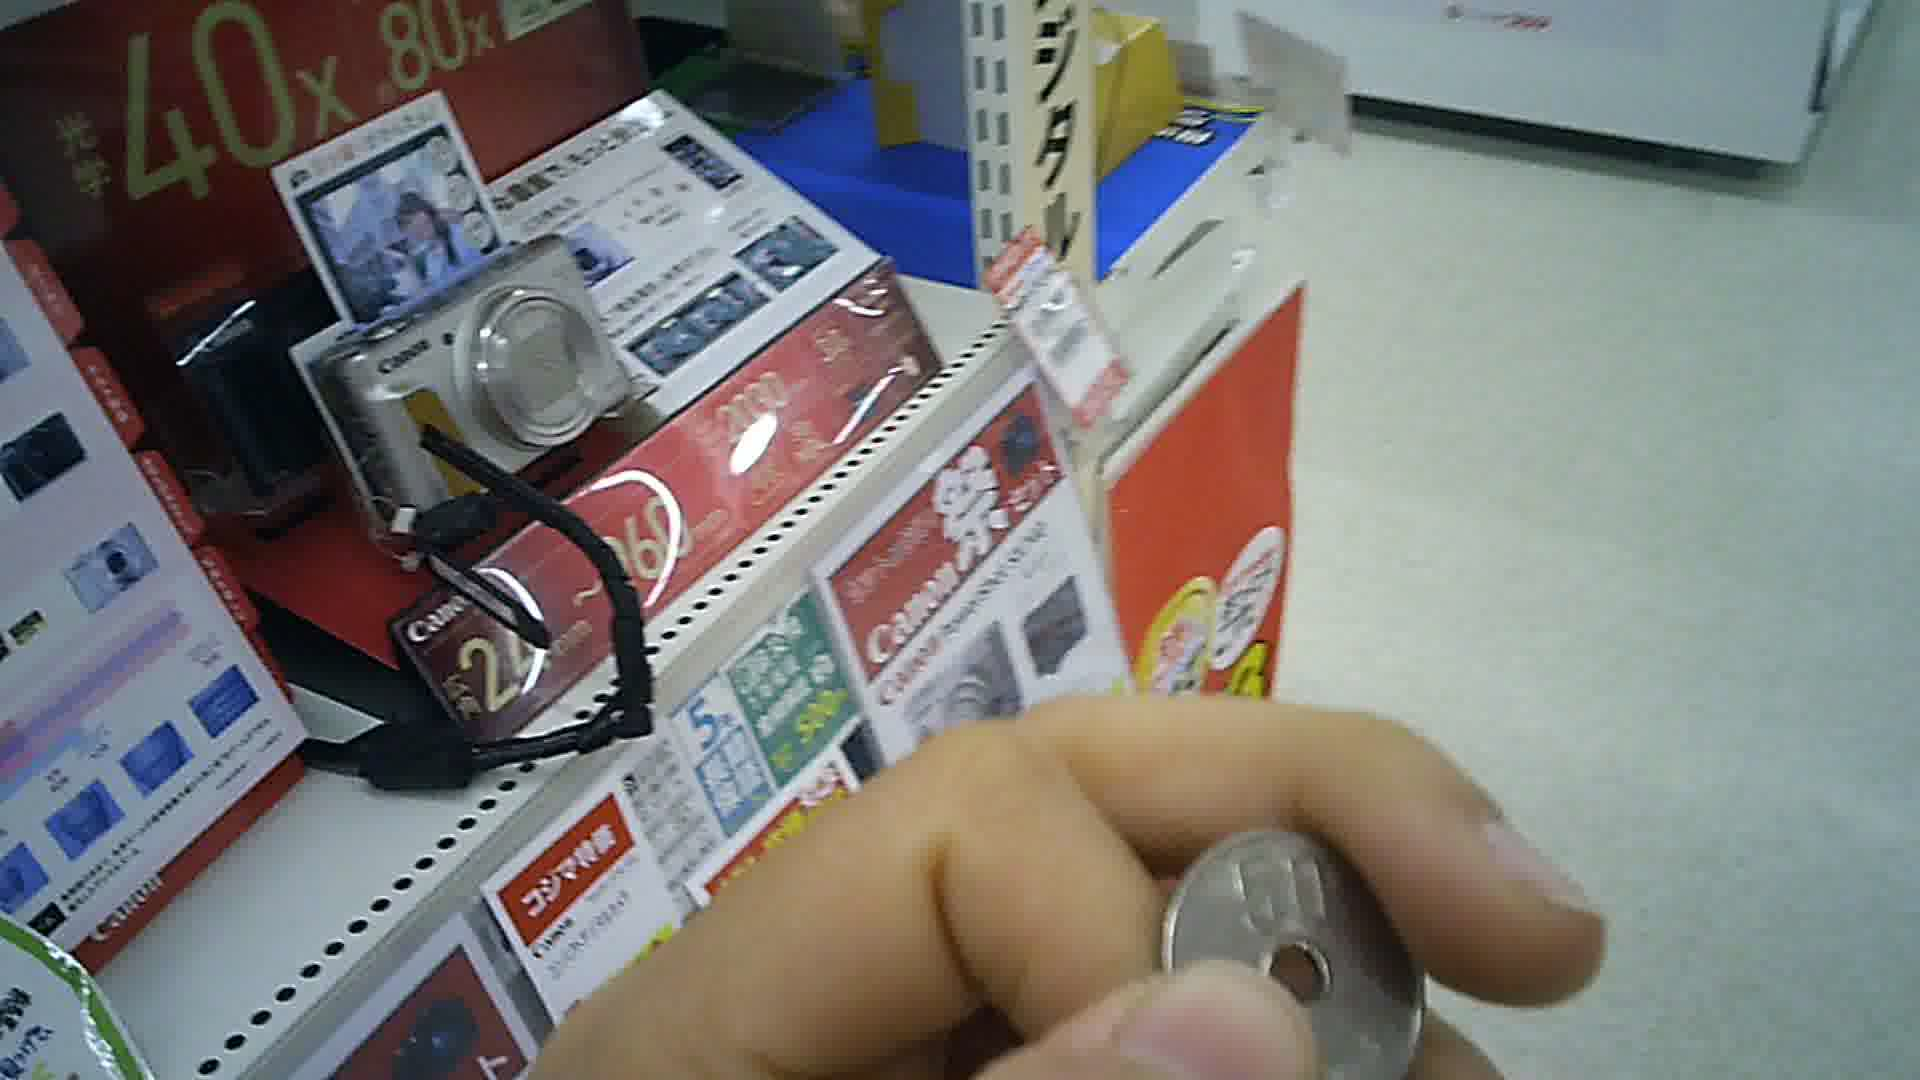50 Yen: (1156, 825, 1432, 1079)
